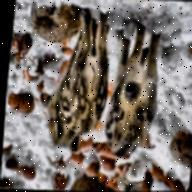boar: (85, 33, 192, 166), (34, 22, 124, 154)
